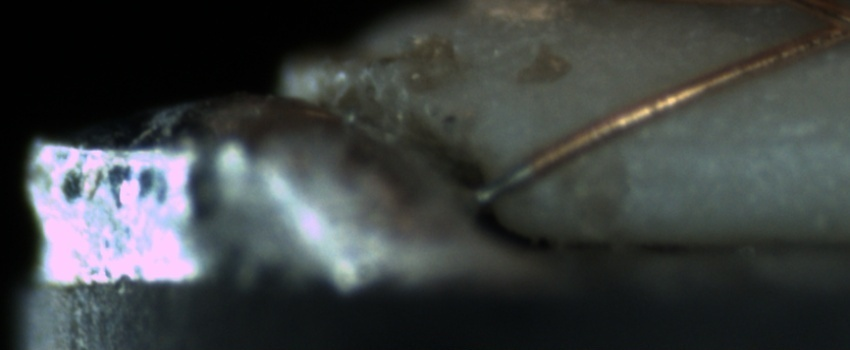CL: (791, 5, 850, 55)
DL: (614, 104, 842, 173)
TS: (474, 158, 537, 207)
TTCW: (474, 137, 575, 208)
